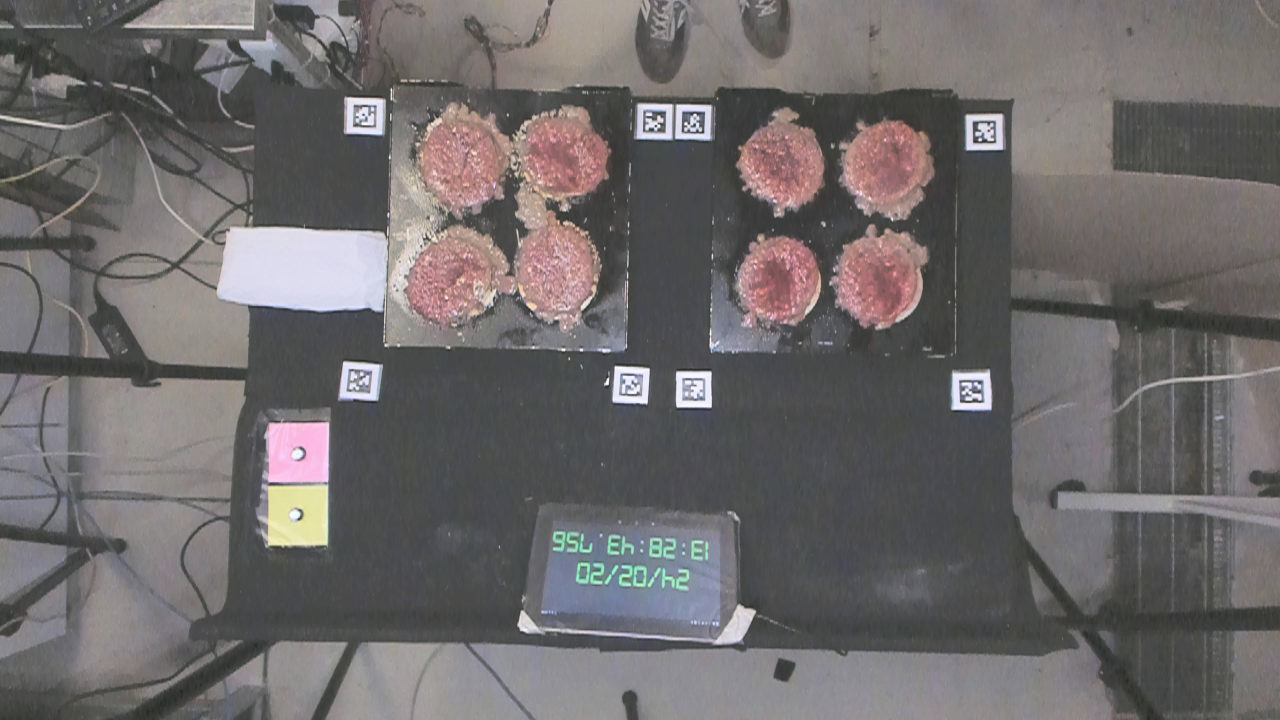hamburger: (398, 233, 505, 330), (829, 232, 926, 332), (512, 107, 614, 202), (841, 118, 936, 215), (731, 233, 824, 328), (734, 122, 831, 213), (512, 224, 603, 319), (420, 115, 504, 211)
marker: (266, 420, 331, 483)
